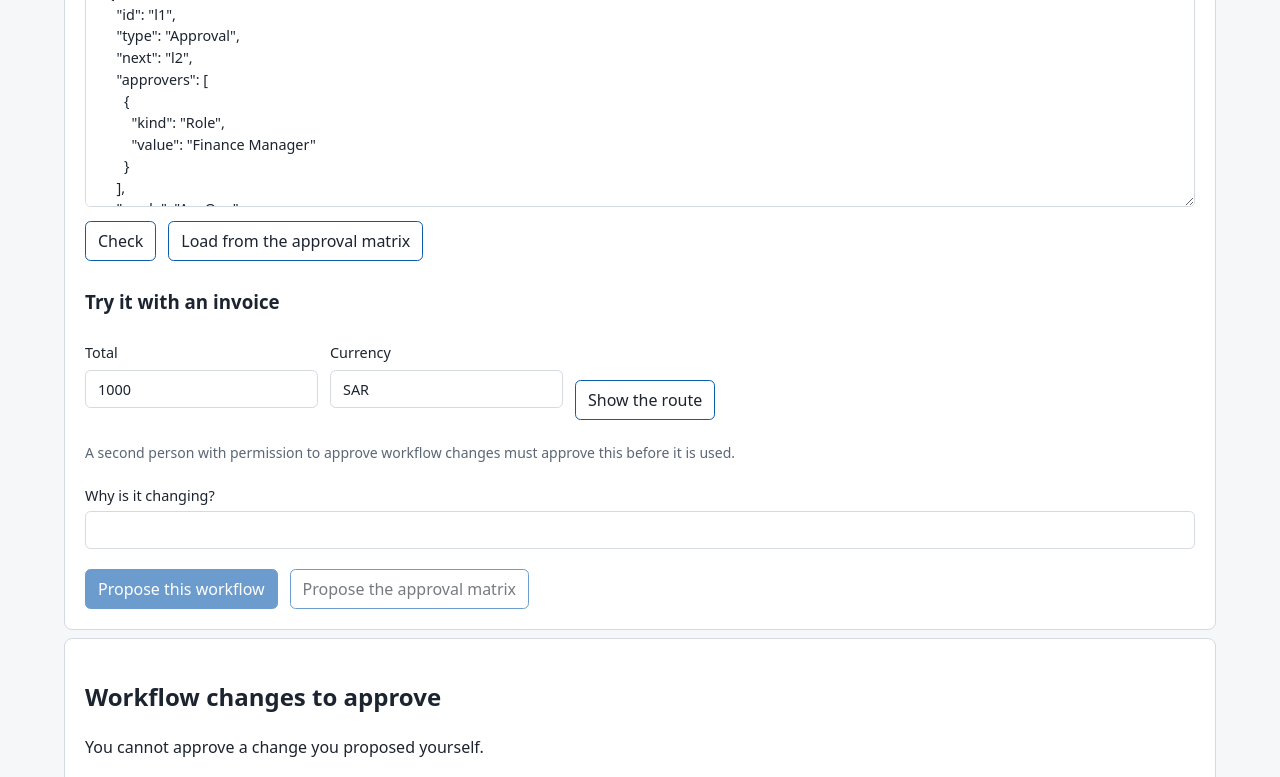
Test case: workflow administration › shows the route a simulated invoice would take
The image size is (1280, 777).
(page scrolled)
Click the button "Show the route" at {"x": 645, "y": 400}, box [575,380,715,420]
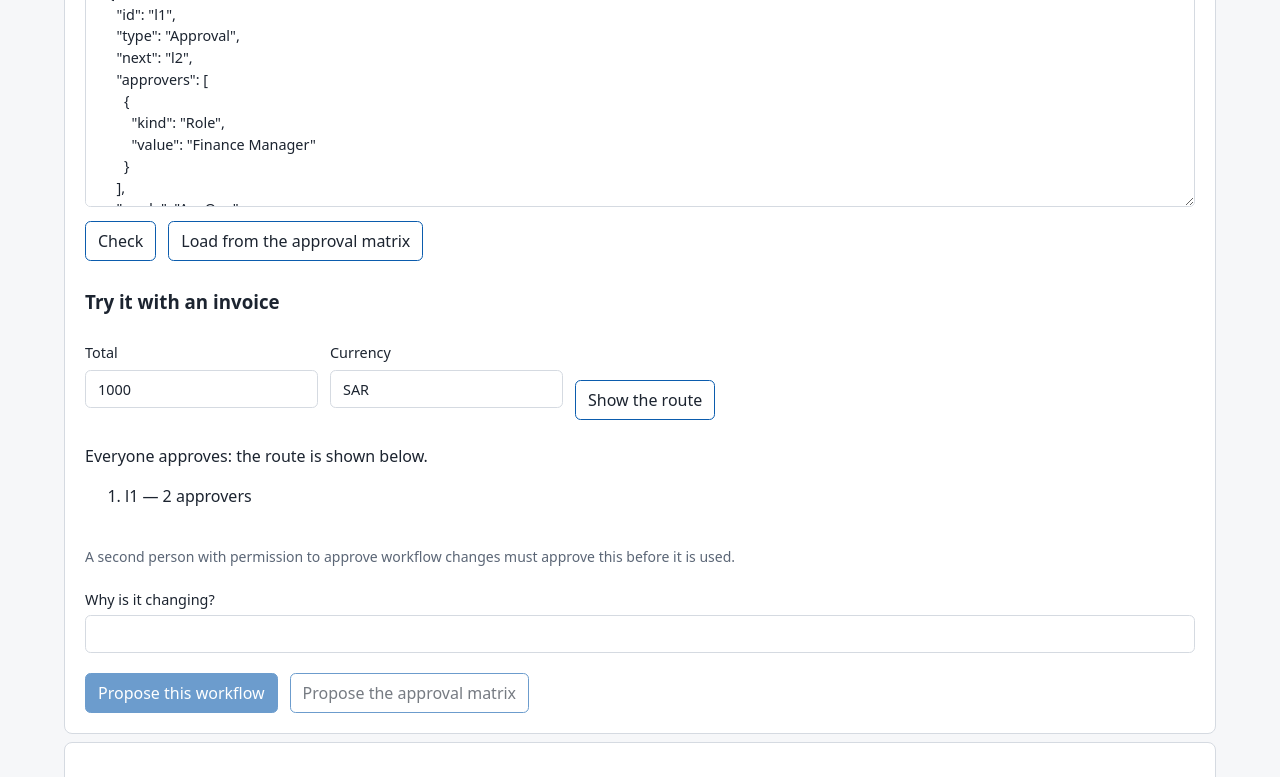
expect the list item "l1 — 2 approvers" is shown: met, box [125,485,252,507]
